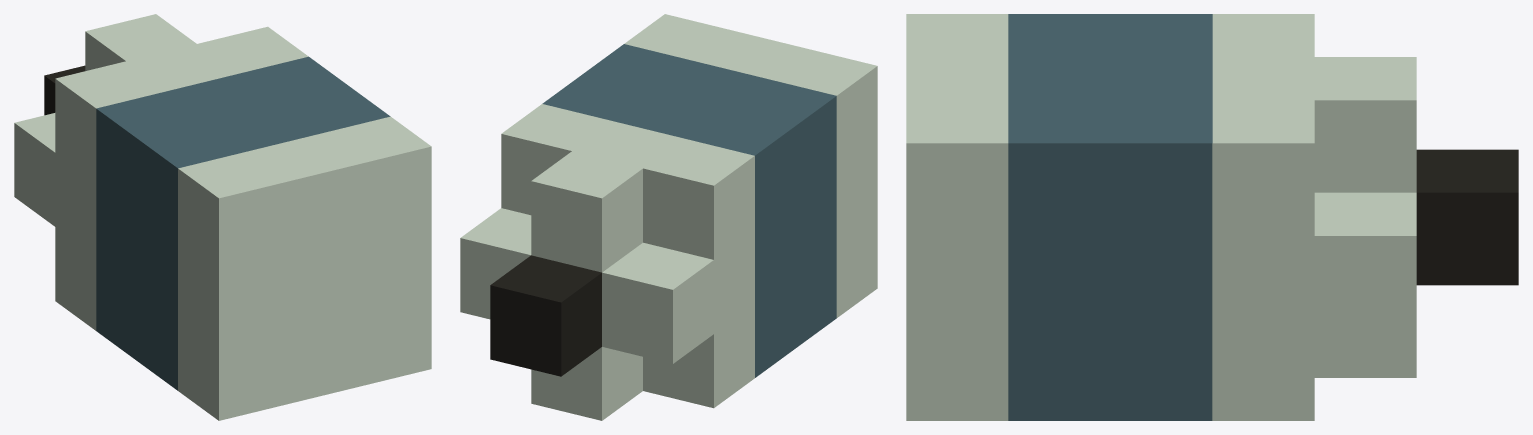
File: Bottle_Gray_Stripe-5.obj
3 renders of one model, left to right at view 1: azimuth 30°, elevation 25°; view 2: azimuth 150°, elevation 25°; view 3: azimuth 270°, elevation 25°, orthographic. The views are drawn at different scales.
Parts seen in each view (by area): view 1: Bottle_Gray_Stripe-5; view 2: Bottle_Gray_Stripe-5; view 3: Bottle_Gray_Stripe-5.
Boxes of the visible parts, <box> form: Bottle_Gray_Stripe-5: <box>14,14,431,420</box>; Bottle_Gray_Stripe-5: <box>460,14,877,420</box>; Bottle_Gray_Stripe-5: <box>906,14,1518,420</box>.
Bounding box in the file's own units: 0.06 × 0.06 × 0.12.
